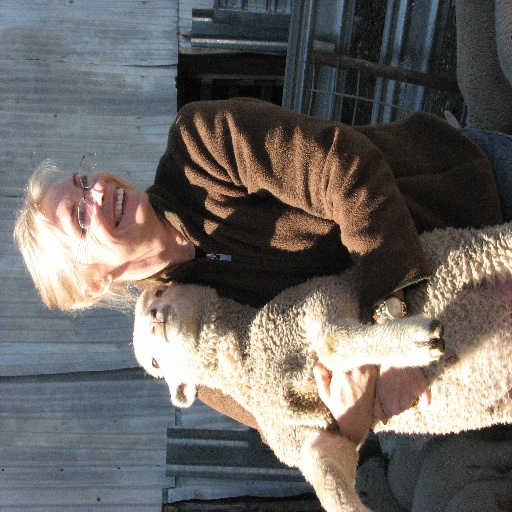hand: (311, 362, 377, 439), (372, 361, 430, 425)
